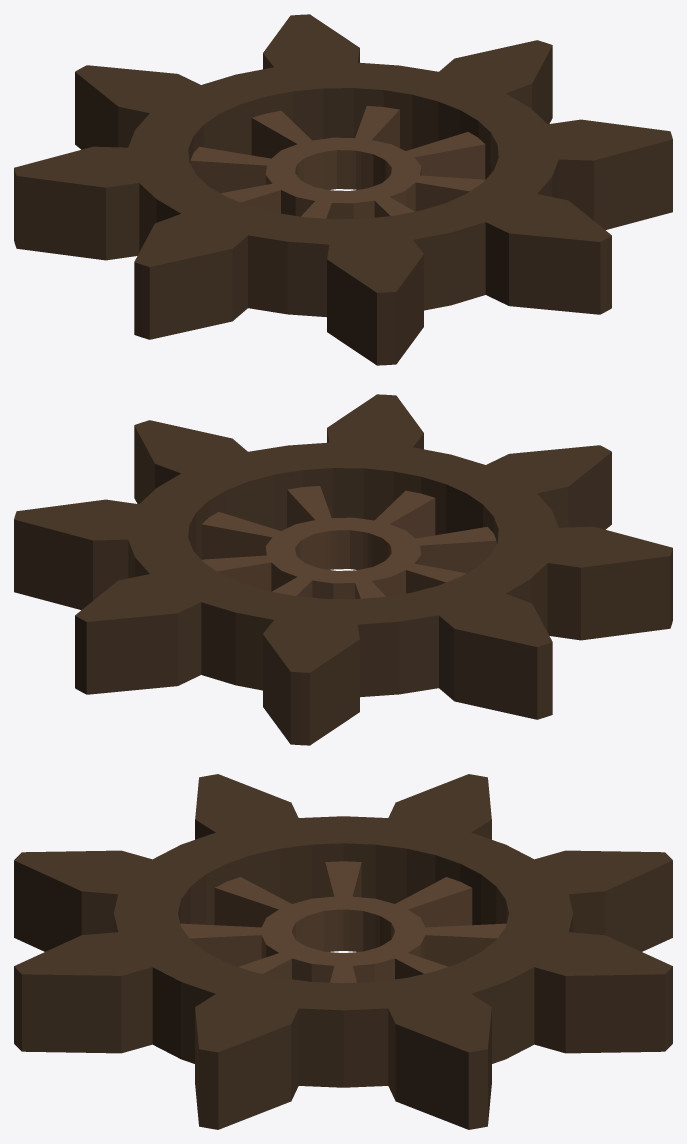
Rendered from LP_P_CogWheel.fbx.
3 views of the same model, one above another, from view 1: azimuth 30°, elevation 25°; view 2: azimuth 150°, elevation 25°; view 3: azimuth 270°, elevation 25° (orthographic). The views are drawn at different scales.
Visible parts, largest first — view 1: LP_CogWheel; view 2: LP_CogWheel; view 3: LP_CogWheel.
Boxes of the visible parts, box(x1,y1,x2,y2) form: LP_CogWheel: box(14, 14, 672, 365); LP_CogWheel: box(14, 394, 672, 745); LP_CogWheel: box(14, 774, 672, 1129).
Bounding box in the file's own units: 383 × 49.6 × 383.
